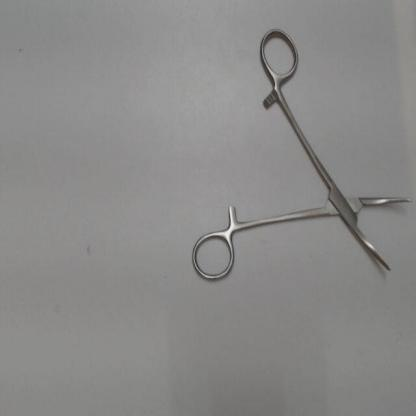Crile Artery Forceps: (189, 22, 414, 286)
